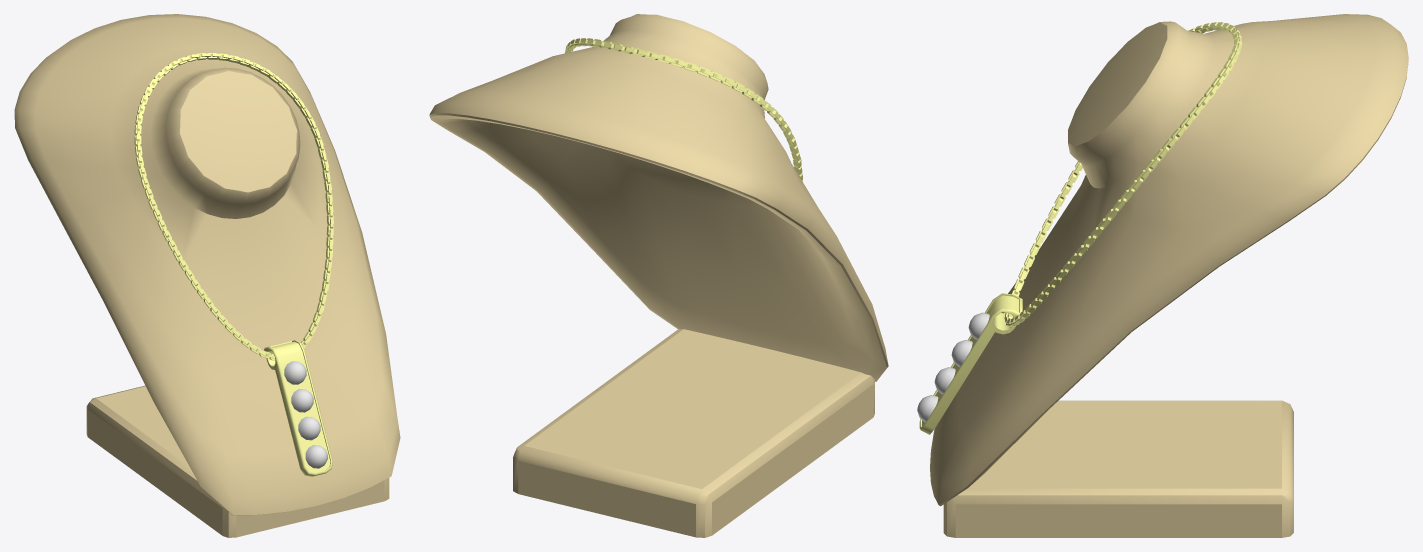
Rendered from Necklace_4.fbx.
3 views of the same model, side by side, from view 1: azimuth 30°, elevation 25°; view 2: azimuth 150°, elevation 25°; view 3: azimuth 270°, elevation 25° (orthographic). The views are drawn at different scales.
Parts seen in each view (by area): view 1: SM_Stand_Necklace_6, SM_Necklace_6, SM_Cullon_10; view 2: SM_Stand_Necklace_6, SM_Necklace_6; view 3: SM_Stand_Necklace_6, SM_Necklace_6, SM_Cullon_10.
Boxes of the visible parts, left/top/right/bottom form: SM_Stand_Necklace_6: left=14, top=14, right=400, bottom=537; SM_Necklace_6: left=134, top=53, right=333, bottom=360; SM_Cullon_10: left=264, top=340, right=332, bottom=476; SM_Stand_Necklace_6: left=429, top=14, right=888, bottom=537; SM_Necklace_6: left=565, top=38, right=802, bottom=181; SM_Stand_Necklace_6: left=930, top=14, right=1408, bottom=537; SM_Necklace_6: left=1004, top=22, right=1242, bottom=326; SM_Cullon_10: left=917, top=293, right=1022, bottom=434.
Bounding box in the file's own units: 22.51 × 29.29 × 28.53.
